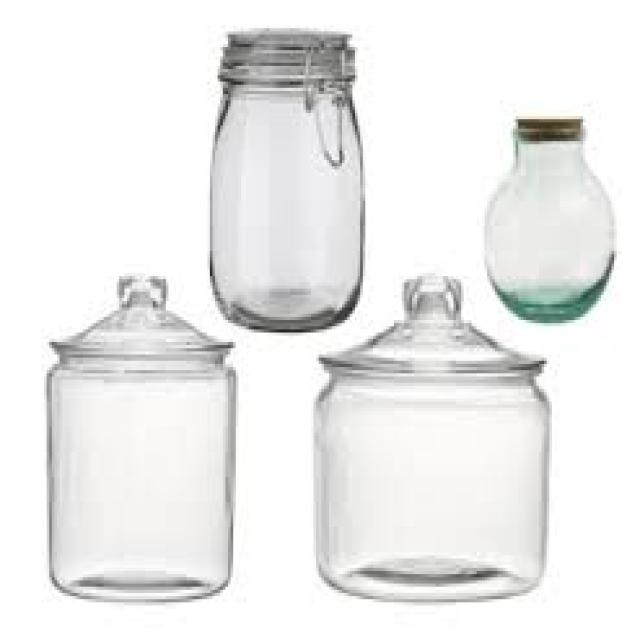Dry Waste: (311, 270, 552, 605), (44, 272, 241, 608), (204, 26, 368, 337), (479, 115, 618, 327)
